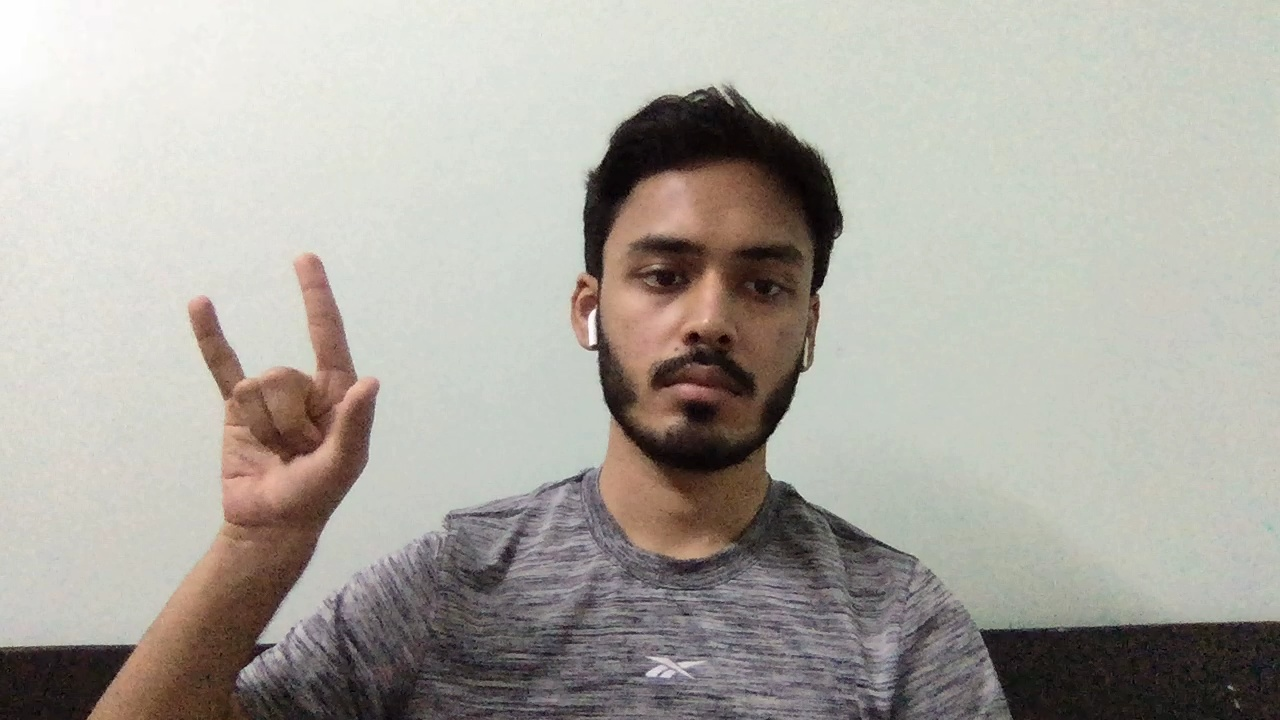I Love You: (166, 244, 396, 546)
